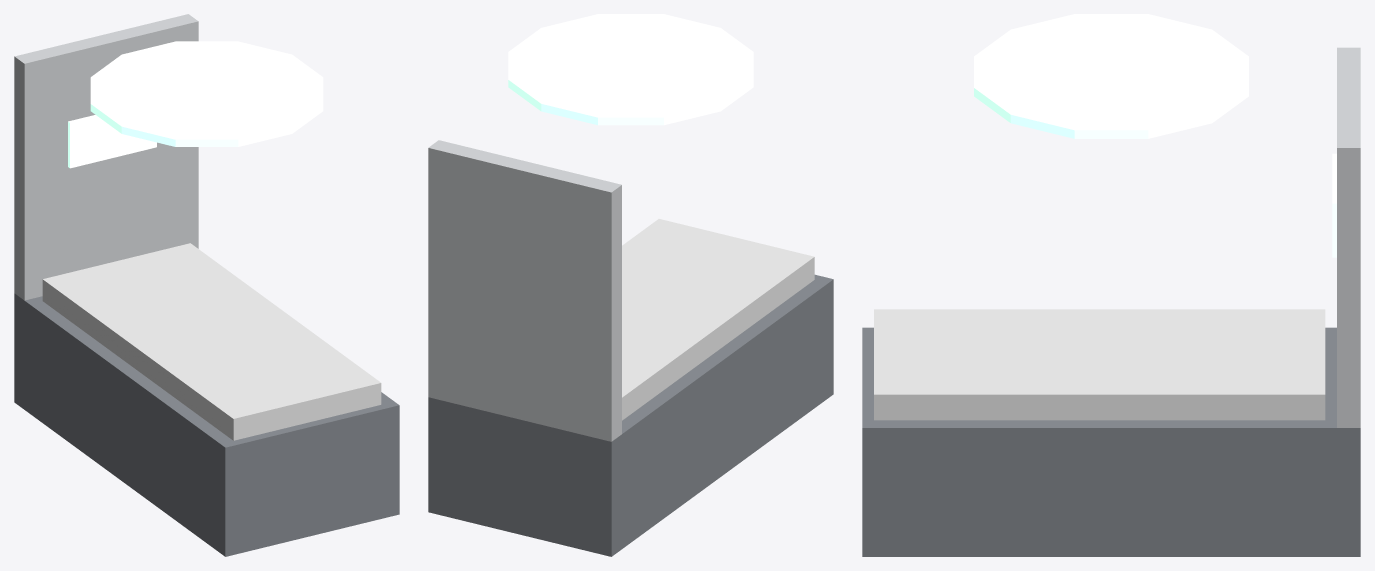
File: med-bay.glb
The picture shows the model from 3 angles, left to right: view 1: azimuth 30°, elevation 25°; view 2: azimuth 150°, elevation 25°; view 3: azimuth 270°, elevation 25°; orthographic projection. The views are drawn at different scales.
Parts seen in each view (by area): view 1: bed; view 2: bed; view 3: bed.
Boxes of the visible parts, x1,y1,x2,y2 form: bed: [14, 14, 399, 556]; bed: [428, 14, 833, 556]; bed: [862, 14, 1360, 556].
Bounding box in the file's own units: 1.16 × 2.02 × 2.1.
